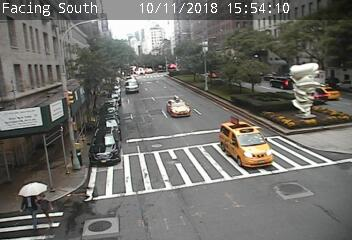car: (221, 122, 273, 169), (166, 99, 190, 117), (270, 76, 296, 89), (125, 79, 139, 93)
